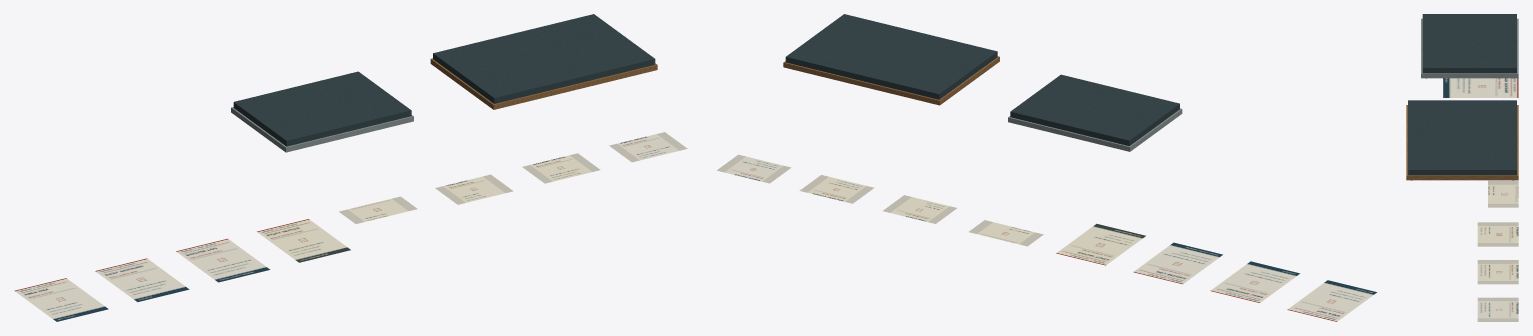
The model's file is PROJECT_Z_ES26_ALL_Signage_Posters_KIT.glb.
3 views of the same model, side by side, from view 1: azimuth 30°, elevation 25°; view 2: azimuth 150°, elevation 25°; view 3: azimuth 270°, elevation 25° (orthographic). The views are drawn at different scales.
Visible parts, largest first — view 1: District_Emergency_Bulletin_Board__CORK_BACKBOARD, Store_Notice_Board__CORK_BACKBOARD, Street_Poster_Supply_Station__DECAL_PLANE_FRONT, Street_Poster_Civic_Bulletin__DECAL_PLANE_FRONT, Evacuation_Notice_North_Gate__DECAL_PLANE_FRONT, Street_Poster_Shelter_Notice__DECAL_PLANE_FRONT, Hazard_Sign_Structural_Risk__DECAL_PLANE_FRONT, Hazard_Sign_Unsafe_Water__DECAL_PLANE_FRONT, Hazard_Sign_Restricted_Area__DECAL_PLANE_FRONT, Evacuation_Directional_Arrow__DECAL_PLANE_FRONT, District_Emergency_Bulletin_Board__FRAME_TOP, Store_Notice_Board__FRAME_TOP; view 2: District_Emergency_Bulletin_Board__CORK_BACKBOARD, Store_Notice_Board__CORK_BACKBOARD, Street_Poster_Civic_Bulletin__DECAL_PLANE_FRONT, Street_Poster_Shelter_Notice__DECAL_PLANE_FRONT, Evacuation_Notice_North_Gate__DECAL_PLANE_FRONT, Street_Poster_Supply_Station__DECAL_PLANE_FRONT, Hazard_Sign_Structural_Risk__DECAL_PLANE_FRONT, Hazard_Sign_Unsafe_Water__DECAL_PLANE_FRONT, Hazard_Sign_Restricted_Area__DECAL_PLANE_FRONT, District_Emergency_Bulletin_Board__FRAME_BOTTOM, Evacuation_Directional_Arrow__DECAL_PLANE_FRONT, Store_Notice_Board__FRAME_BOTTOM; view 3: District_Emergency_Bulletin_Board__CORK_BACKBOARD, Store_Notice_Board__CORK_BACKBOARD, Street_Poster_Supply_Station__DECAL_PLANE_FRONT, Hazard_Sign_Unsafe_Water__DECAL_PLANE_FRONT, Hazard_Sign_Structural_Risk__DECAL_PLANE_FRONT, Hazard_Sign_Restricted_Area__DECAL_PLANE_FRONT, Evacuation_Directional_Arrow__DECAL_PLANE_FRONT, District_Emergency_Bulletin_Board__FRAME_RIGHT, Store_Notice_Board__FRAME_RIGHT, District_Emergency_Bulletin_Board__FRAME_BOTTOM, District_Emergency_Bulletin_Board__FRAME_TOP, Store_Notice_Board__FRAME_BOTTOM (+1 smaller).
Boxes of the visible parts, box(x1,y1,x2,y2) form: District_Emergency_Bulletin_Board__CORK_BACKBOARD: box(433, 14, 655, 103); Store_Notice_Board__CORK_BACKBOARD: box(233, 71, 411, 146); Street_Poster_Supply_Station__DECAL_PLANE_FRONT: box(95, 258, 189, 302); Street_Poster_Civic_Bulletin__DECAL_PLANE_FRONT: box(14, 278, 108, 321); Evacuation_Notice_North_Gate__DECAL_PLANE_FRONT: box(257, 219, 350, 262); Street_Poster_Shelter_Notice__DECAL_PLANE_FRONT: box(176, 238, 270, 282); Hazard_Sign_Structural_Risk__DECAL_PLANE_FRONT: box(522, 153, 600, 183); Hazard_Sign_Unsafe_Water__DECAL_PLANE_FRONT: box(435, 174, 513, 204); Hazard_Sign_Restricted_Area__DECAL_PLANE_FRONT: box(609, 132, 687, 162); Evacuation_Directional_Arrow__DECAL_PLANE_FRONT: box(339, 196, 417, 223); District_Emergency_Bulletin_Board__FRAME_TOP: box(489, 63, 657, 109); Store_Notice_Board__FRAME_TOP: box(282, 115, 413, 152); District_Emergency_Bulletin_Board__CORK_BACKBOARD: box(785, 14, 997, 99); Store_Notice_Board__CORK_BACKBOARD: box(1010, 74, 1179, 146); Street_Poster_Civic_Bulletin__DECAL_PLANE_FRONT: box(1287, 280, 1377, 321); Street_Poster_Shelter_Notice__DECAL_PLANE_FRONT: box(1133, 242, 1222, 284); Evacuation_Notice_North_Gate__DECAL_PLANE_FRONT: box(1056, 223, 1145, 265); Street_Poster_Supply_Station__DECAL_PLANE_FRONT: box(1210, 261, 1299, 302); Hazard_Sign_Structural_Risk__DECAL_PLANE_FRONT: box(799, 175, 874, 203); Hazard_Sign_Unsafe_Water__DECAL_PLANE_FRONT: box(883, 195, 956, 223); Hazard_Sign_Restricted_Area__DECAL_PLANE_FRONT: box(717, 154, 791, 183); District_Emergency_Bulletin_Board__FRAME_BOTTOM: box(783, 61, 943, 105); Evacuation_Directional_Arrow__DECAL_PLANE_FRONT: box(969, 220, 1043, 246); Store_Notice_Board__FRAME_BOTTOM: box(1008, 116, 1132, 151); District_Emergency_Bulletin_Board__CORK_BACKBOARD: box(1408, 100, 1516, 175); Store_Notice_Board__CORK_BACKBOARD: box(1422, 14, 1516, 73); Street_Poster_Supply_Station__DECAL_PLANE_FRONT: box(1443, 78, 1518, 97); Hazard_Sign_Unsafe_Water__DECAL_PLANE_FRONT: box(1477, 222, 1518, 246); Hazard_Sign_Structural_Risk__DECAL_PLANE_FRONT: box(1477, 260, 1518, 284); Hazard_Sign_Restricted_Area__DECAL_PLANE_FRONT: box(1477, 297, 1518, 321); Evacuation_Directional_Arrow__DECAL_PLANE_FRONT: box(1488, 180, 1518, 207); District_Emergency_Bulletin_Board__FRAME_RIGHT: box(1413, 175, 1511, 180); Store_Notice_Board__FRAME_RIGHT: box(1426, 73, 1512, 78); District_Emergency_Bulletin_Board__FRAME_BOTTOM: box(1511, 105, 1518, 180); District_Emergency_Bulletin_Board__FRAME_TOP: box(1406, 105, 1413, 180); Store_Notice_Board__FRAME_BOTTOM: box(1513, 18, 1518, 78).
Size of the model in its own units: 5.23 by 1.05 by 0.88.
Materials: 2 (2 with a texture image).
